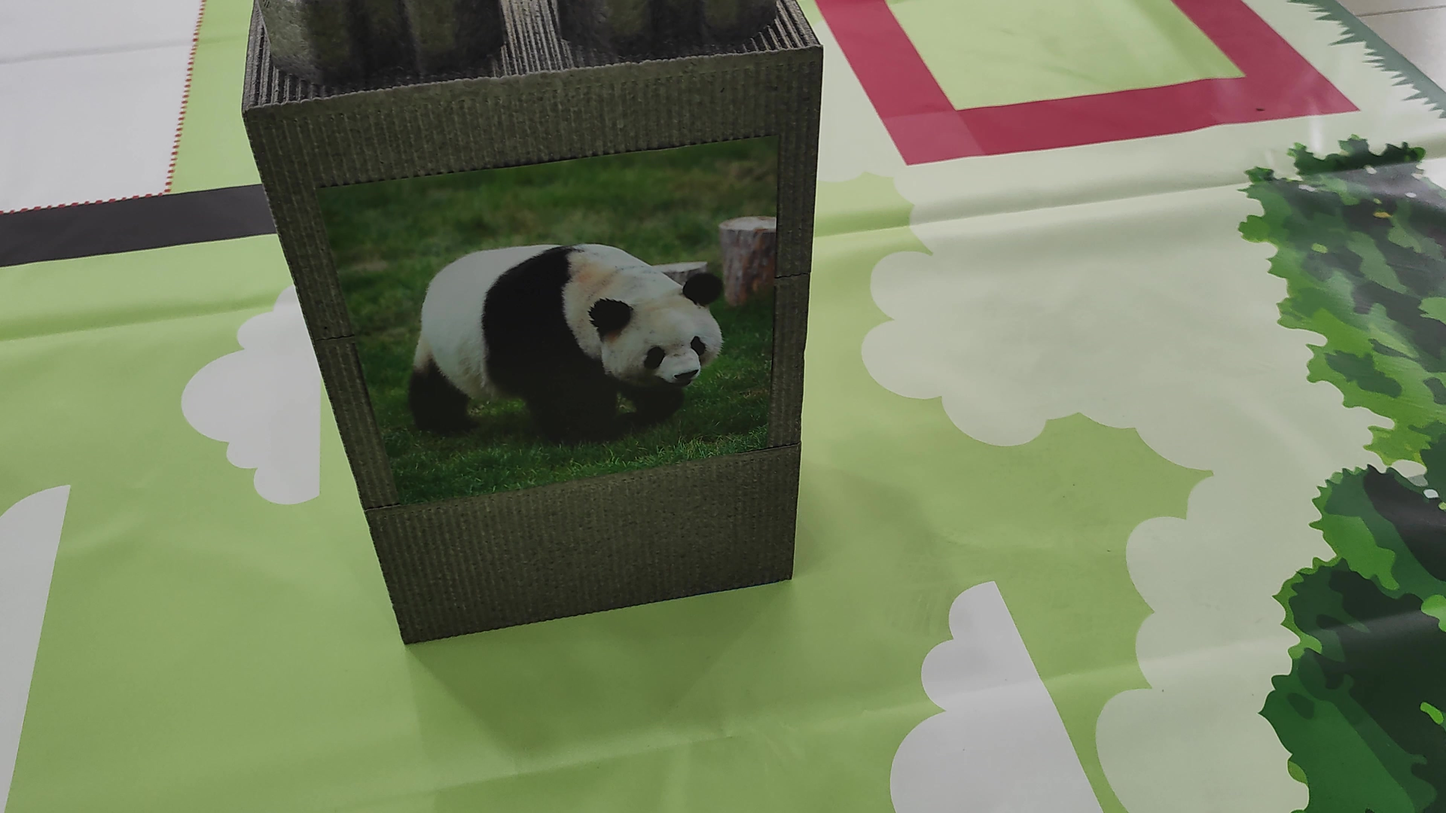panda: (390, 212, 736, 475)
